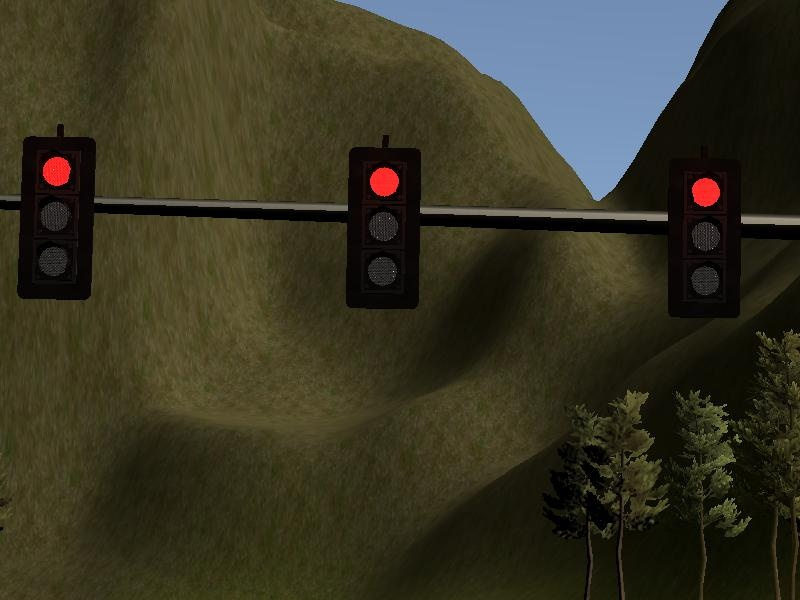RED: (19, 138, 97, 300), (343, 147, 421, 309), (665, 154, 743, 316)
